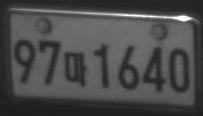0: (169, 47, 190, 92)
1: (91, 44, 114, 88)
4: (142, 46, 167, 92)
6: (118, 45, 139, 90)
7: (38, 40, 61, 84)
9: (13, 38, 35, 83)
마: (63, 51, 87, 87)
